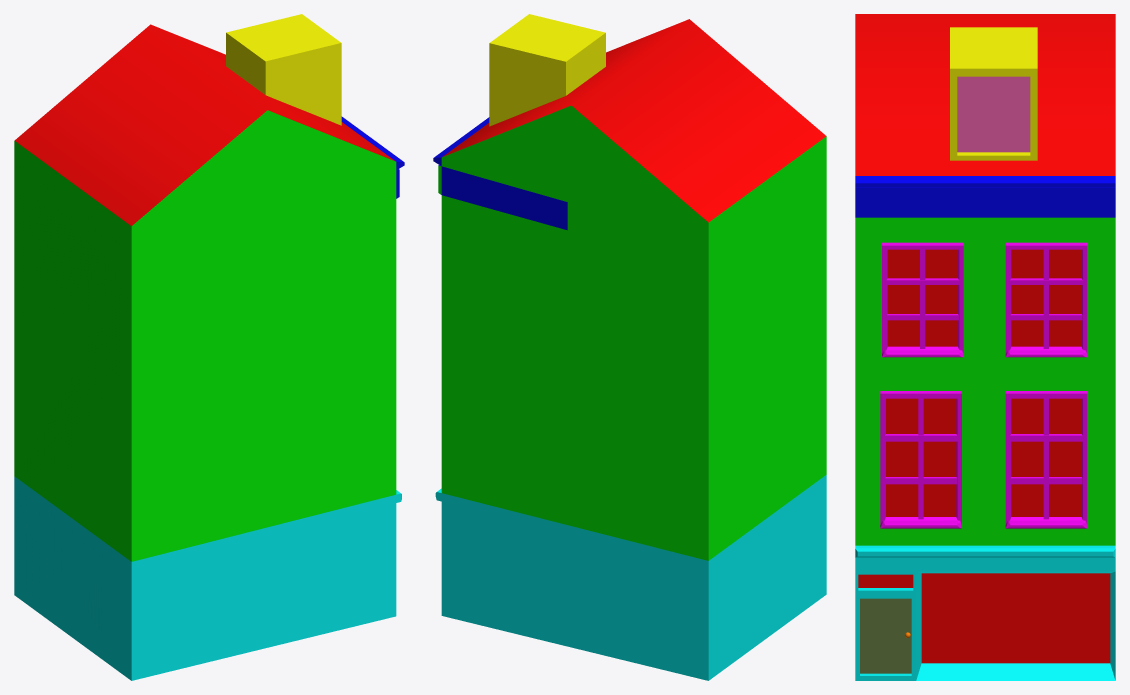
File: huis7_model.obj
3 views of the same model, side by side, from view 1: azimuth 30°, elevation 25°; view 2: azimuth 150°, elevation 25°; view 3: azimuth 270°, elevation 25° (orthographic). The views are drawn at different scales.
Parts seen in each view (by area): view 1: polySurface108; view 2: polySurface108; view 3: polySurface108.
Boxes of the visible parts, <box> form: polySurface108: <box>14,14,404,680</box>; polySurface108: <box>433,14,826,680</box>; polySurface108: <box>855,14,1115,680</box>.
Bounding box in the file's own units: 283 × 533 × 207.
